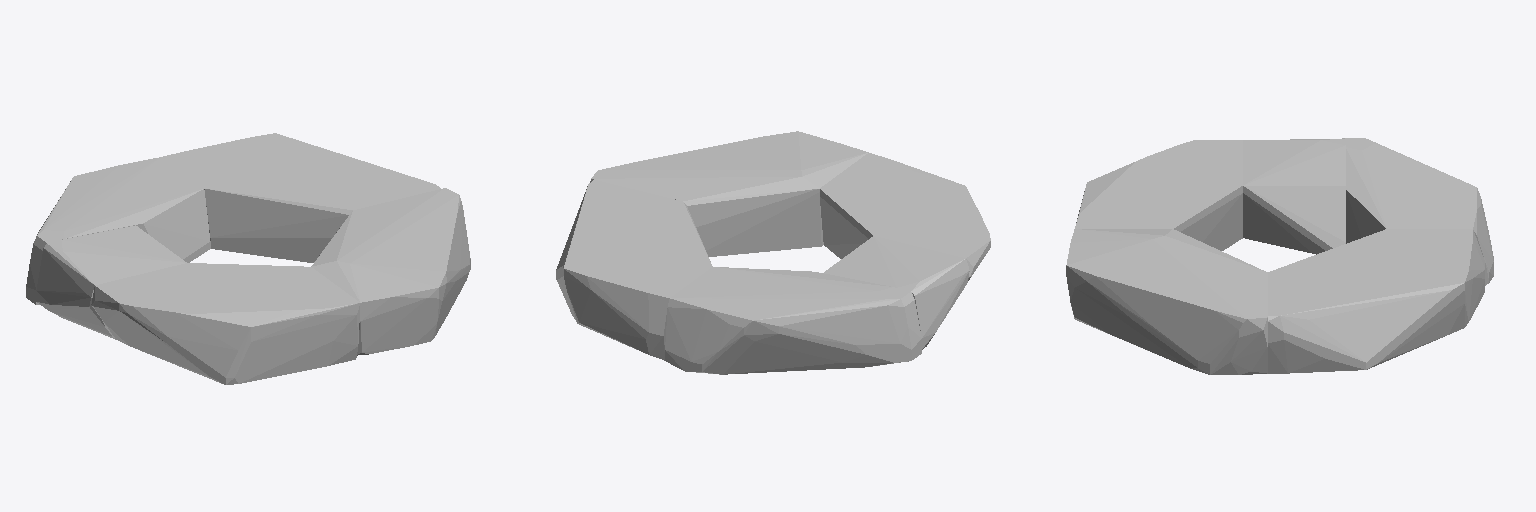
File: doughnut_decimated.obj
The picture shows the model from 3 angles: view 1: azimuth 30°, elevation 25°; view 2: azimuth 150°, elevation 25°; view 3: azimuth 270°, elevation 25°; orthographic projection.
Visible parts, largest first — view 1: convex_0, convex_1, convex_2, convex_3, convex_4; view 2: convex_3, convex_2, convex_1, convex_0, convex_4; view 3: convex_1, convex_2, convex_0, convex_4, convex_3.
Part boxes in pixels (x1,y1,x2,y2): convex_0: (91,263,359,384); convex_1: (162,133,440,262); convex_2: (311,188,470,355); convex_3: (26,157,210,304); convex_4: (36,225,186,339); convex_3: (664,267,921,374); convex_2: (590,131,868,256); convex_1: (556,180,712,360); convex_0: (820,153,990,280); convex_4: (824,236,969,349); convex_1: (1268,229,1484,373); convex_2: (1066,229,1267,374); convex_0: (1075,140,1242,250); convex_4: (1243,138,1345,254); convex_3: (1346,138,1493,285).
Size of the model in its own units: 45.83 by 7.42 by 45.39.